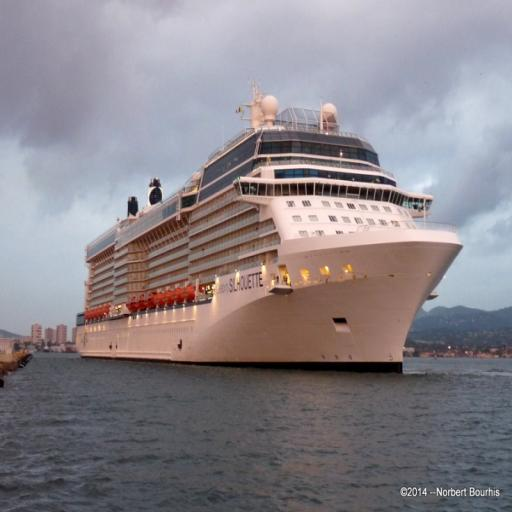cruises: (74, 80, 468, 381)
